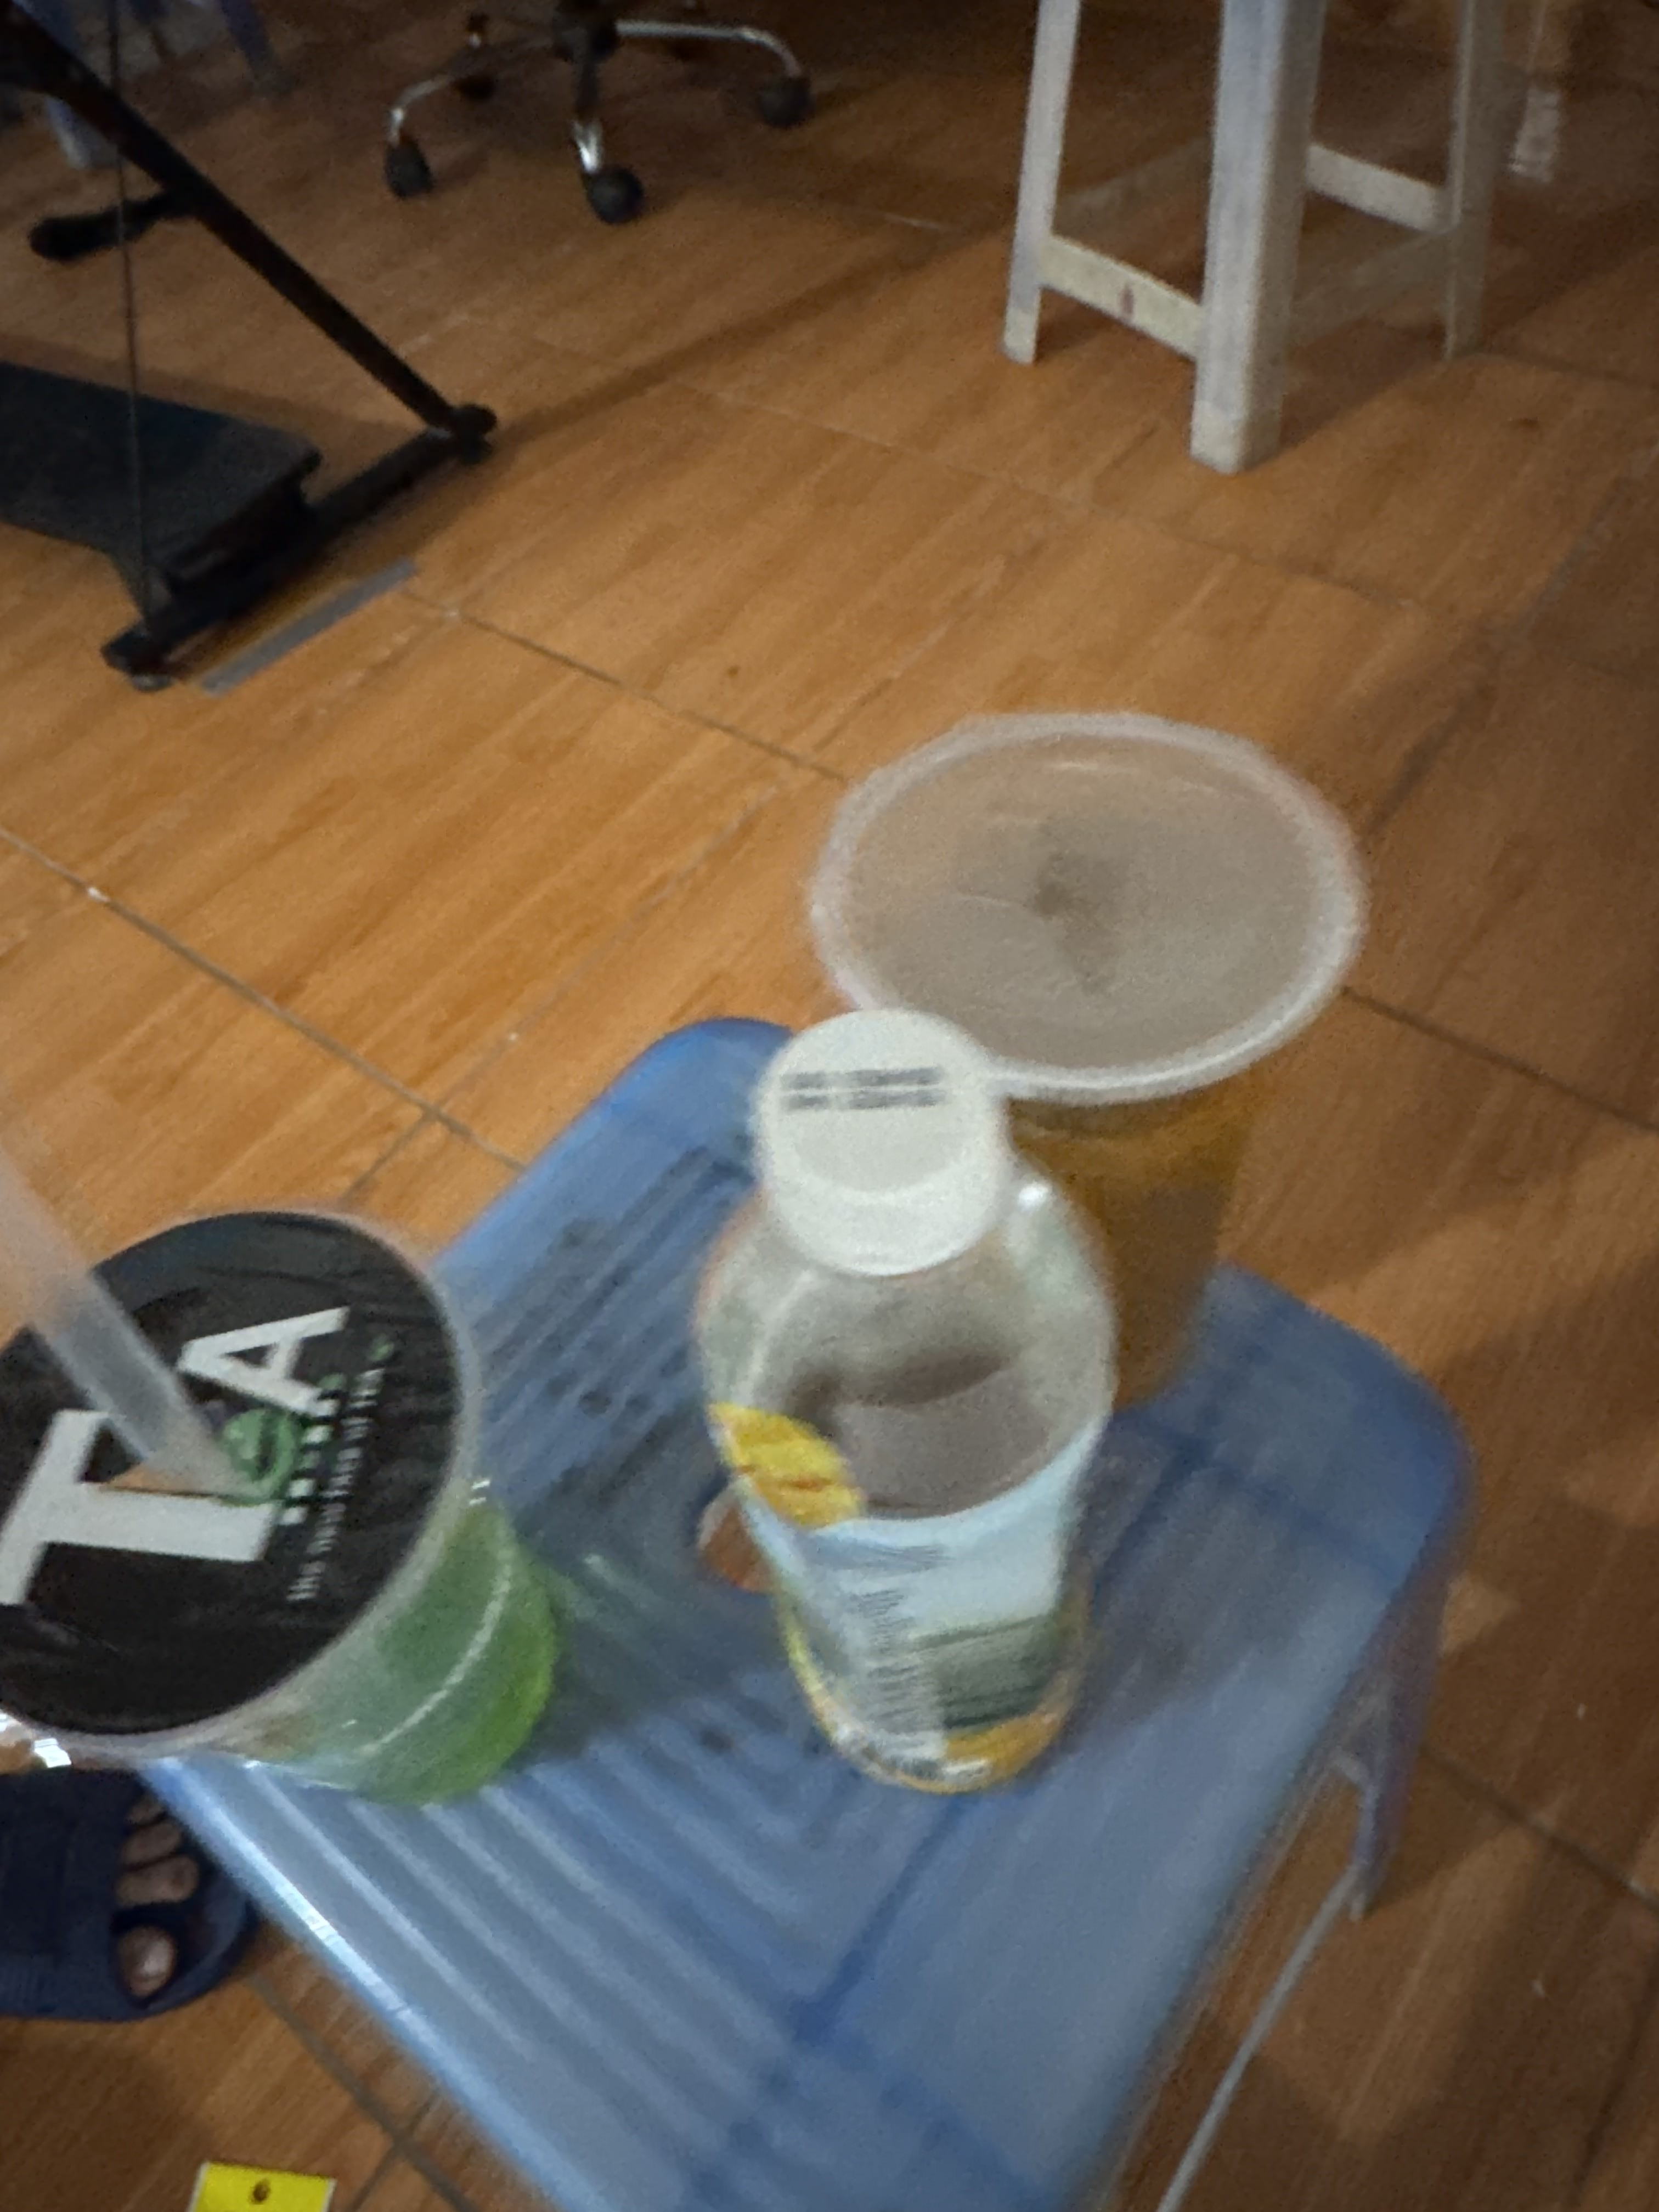bottle: (641, 986, 1188, 1841)
cup: (0, 1052, 592, 2036), (782, 704, 1368, 1402)
